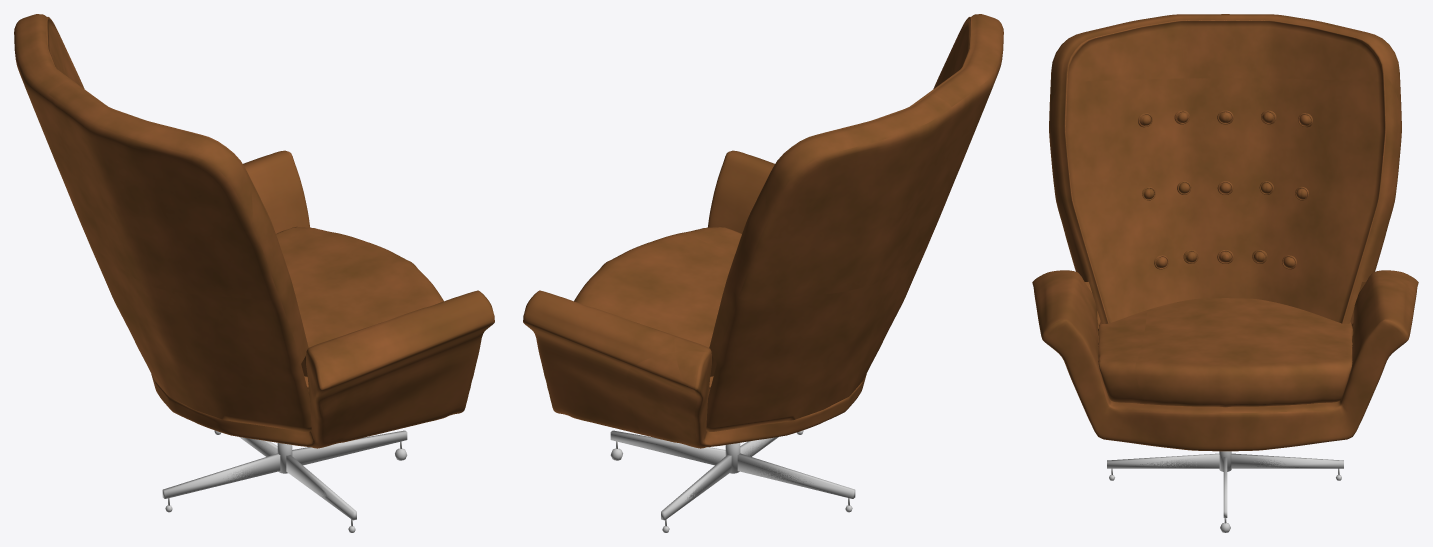
File: Chair.fbx
3 views of the same model, side by side, from view 1: azimuth 30°, elevation 25°; view 2: azimuth 150°, elevation 25°; view 3: azimuth 270°, elevation 25° (orthographic). The views are drawn at different scales.
Parts seen in each view (by area): view 1: Chair; view 2: Chair; view 3: Chair.
Part boxes in pixels (x1,y1,x2,y2): Chair: (14, 14, 494, 532); Chair: (523, 14, 1003, 532); Chair: (1032, 14, 1418, 532).
Bounding box in the file's own units: 188 × 223 × 204.
